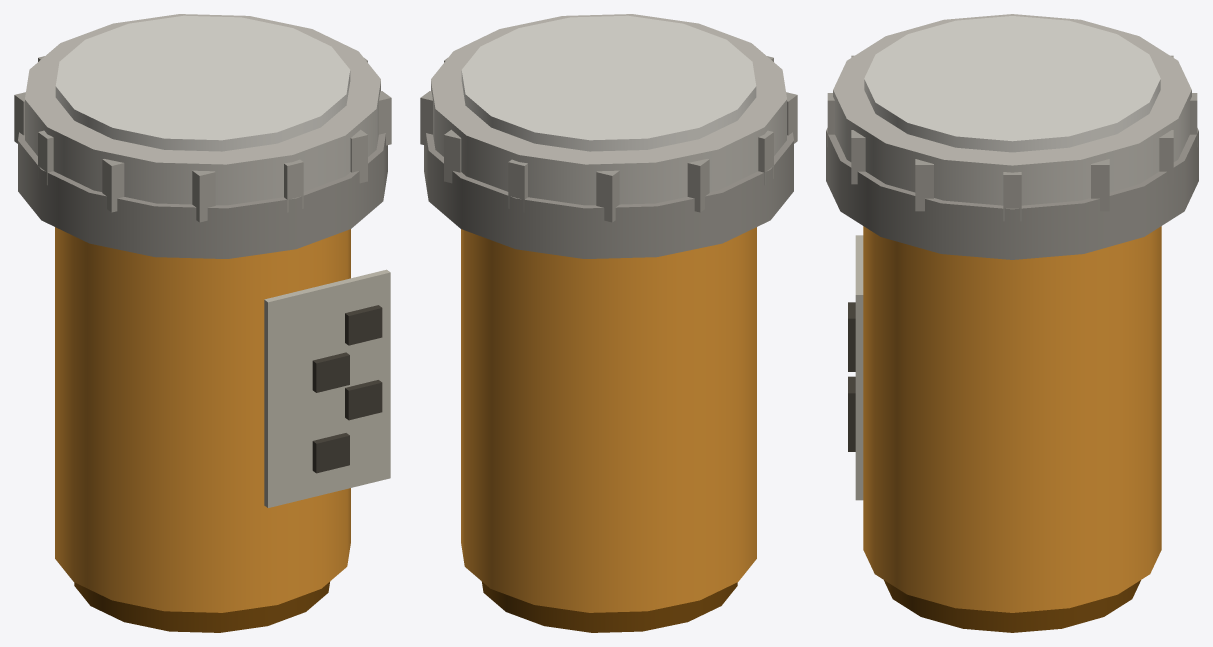
The model's file is CMU3DCMPillCanisterKelotane.glb.
3 views of the same model, side by side, from view 1: azimuth 30°, elevation 25°; view 2: azimuth 150°, elevation 25°; view 3: azimuth 270°, elevation 25° (orthographic).
Parts seen in each view (by area): view 1: colored bottle body, cap top inset, small medicine label, closed pale screw cap, cap rim, source label ink (×4), cap grip rib (×6), bottle lower bevel; view 2: colored bottle body, cap top inset, closed pale screw cap, cap rim, cap grip rib (×6), bottle lower bevel; view 3: colored bottle body, cap top inset, closed pale screw cap, cap rim, bottle lower bevel, cap grip rib (×5), small medicine label.
Boxes of the visible parts, x1,y1,x2,y2 form: colored bottle body: [55, 227, 350, 612]; cap top inset: [55, 15, 350, 151]; small medicine label: [264, 269, 390, 507]; closed pale screw cap: [25, 14, 380, 205]; cap rim: [18, 132, 387, 258]; source label ink (×4): [312, 305, 382, 473]; cap grip rib (×6): [38, 91, 391, 222]; bottle lower bevel: [74, 581, 330, 632]; colored bottle body: [461, 227, 756, 612]; cap top inset: [461, 15, 756, 151]; closed pale screw cap: [431, 14, 786, 205]; cap rim: [424, 132, 793, 258]; cap grip rib (×6): [420, 91, 773, 222]; bottle lower bevel: [481, 581, 737, 632]; colored bottle body: [863, 226, 1161, 612]; cap top inset: [864, 16, 1160, 152]; closed pale screw cap: [833, 14, 1191, 205]; cap rim: [826, 128, 1198, 259]; bottle lower bevel: [884, 580, 1140, 632]; cap grip rib (×5): [851, 130, 1173, 221]; small medicine label: [855, 235, 863, 500].
Bounding box in the file's own units: 0.24 × 0.355 × 0.24.
